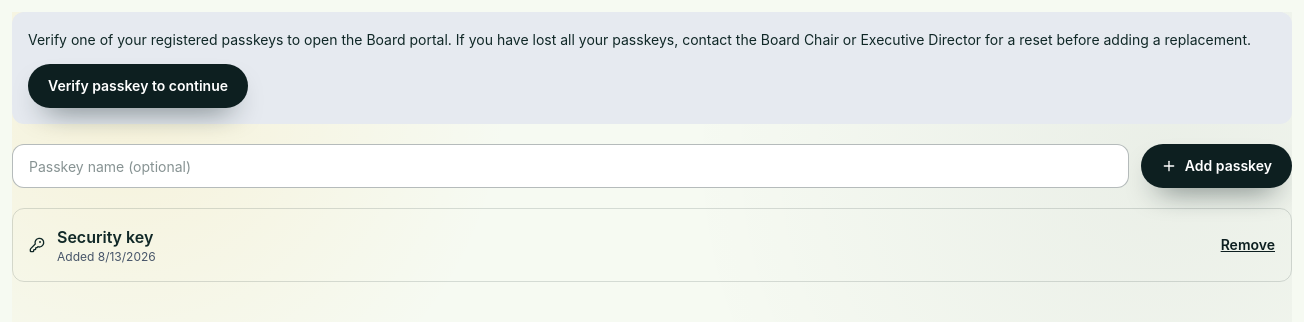
Scenario: PasskeyManager › automatically returns to the requested portal route after recovery verification
Click the button "Verify passkey to continue": (138, 86) [28,64,248,108]
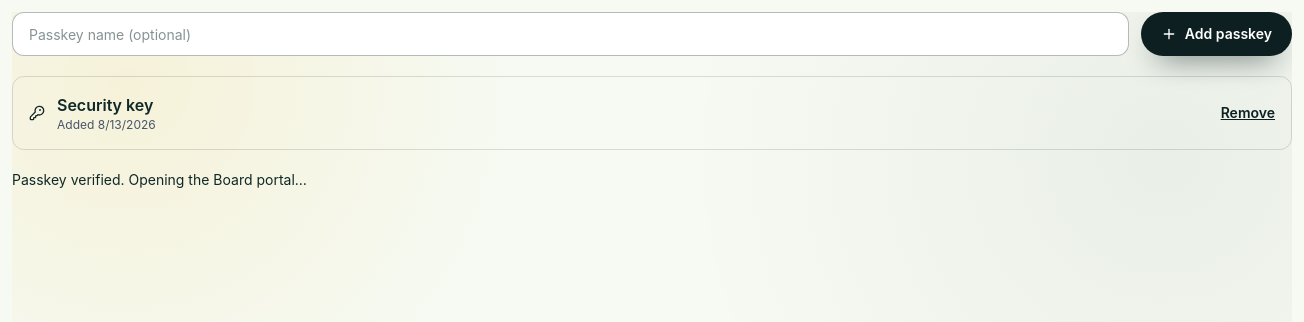
Result: the message shows "Passkey verified. Opening the Board portal" at [12,171,307,188]
